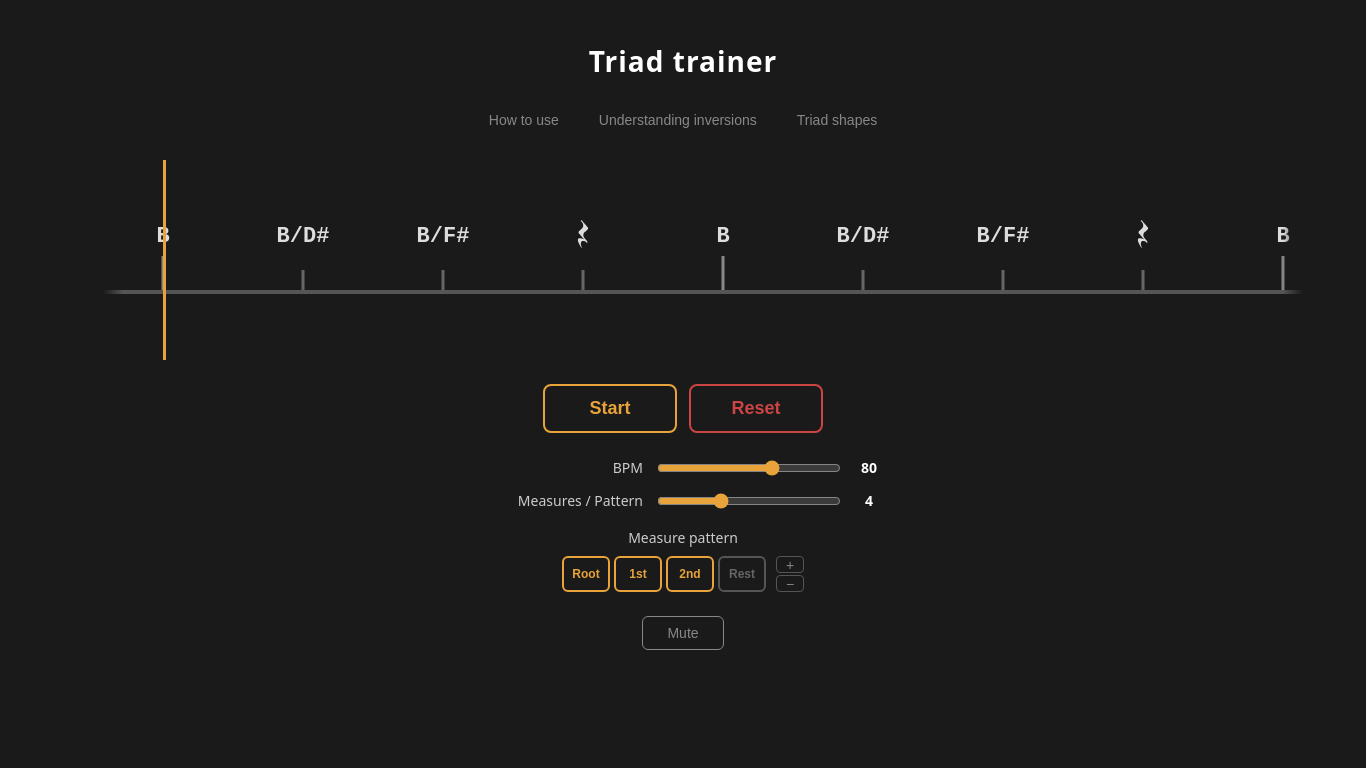
it: App › structure settings are not disabled while paused
Click the button "Start" at [610, 408], box 543,384 -> 677,433
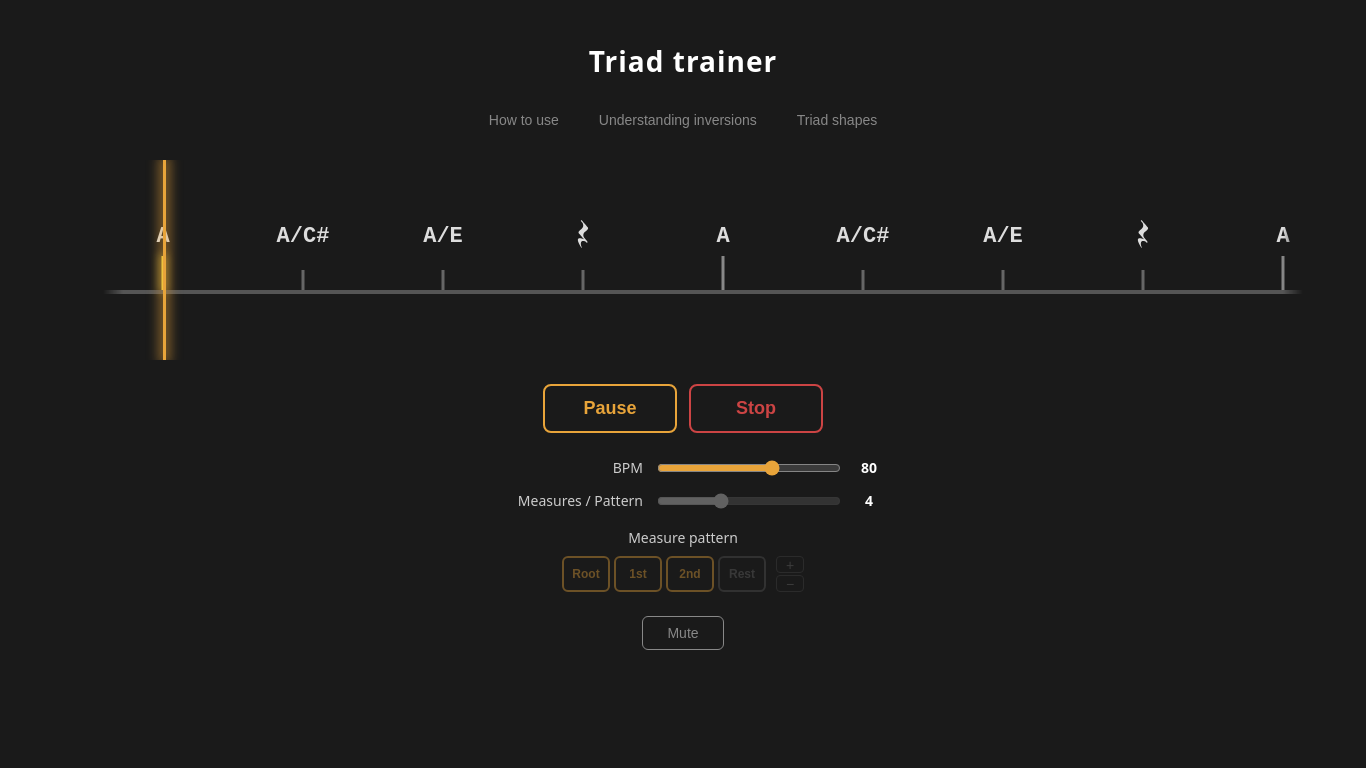
Click the button "Pause" at [610, 408], box 543,384 -> 677,433
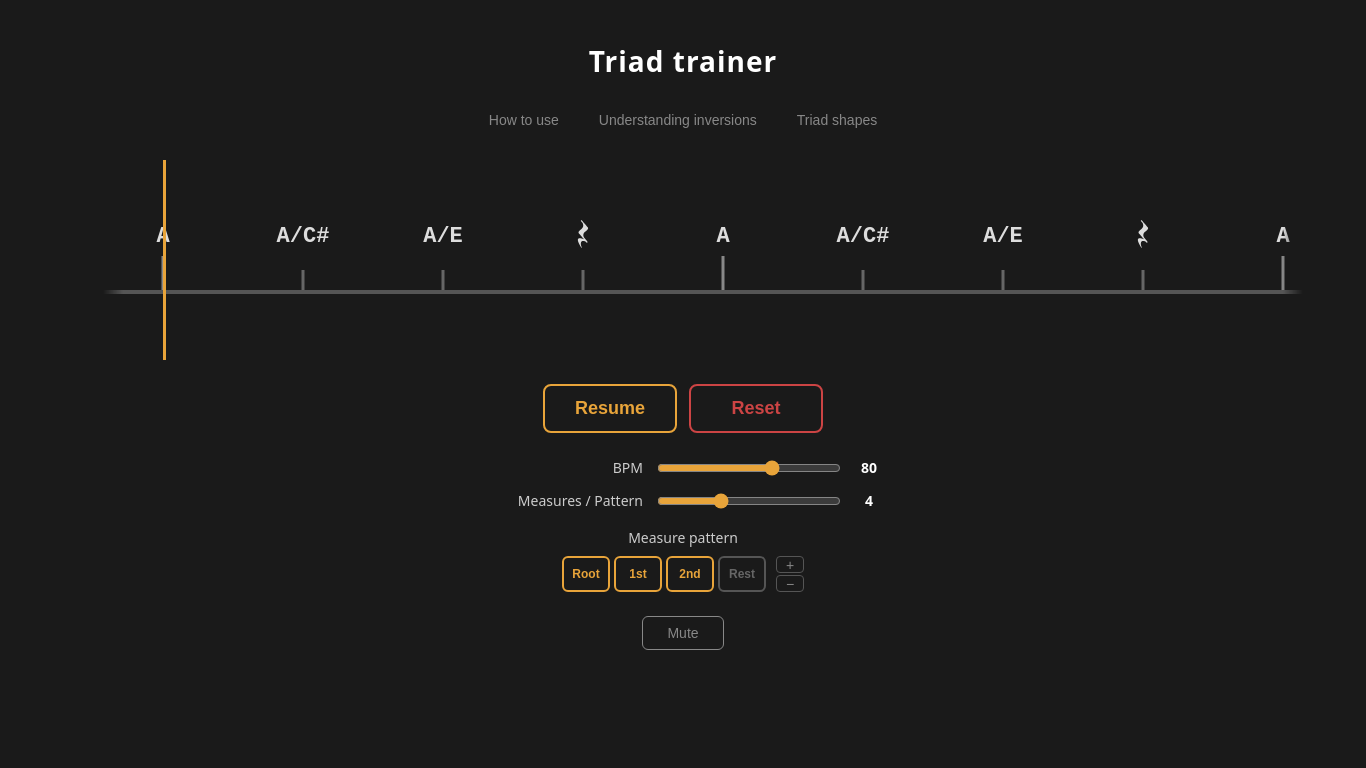
Expected: the slider labelled "Measures / Pattern" is enabled, 657,492 -> 841,508
